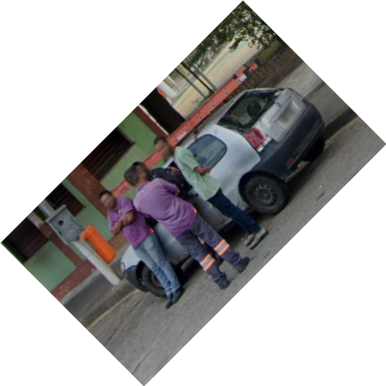car: (119, 86, 328, 307)
